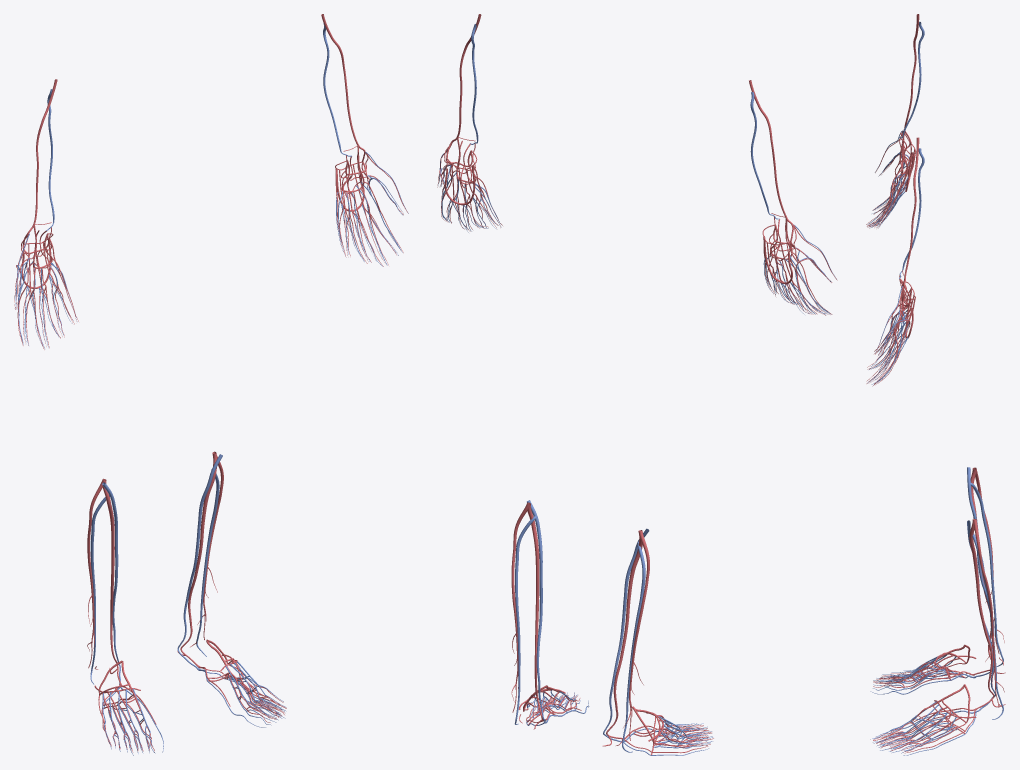
File: vaisseaux-extremites.glb
3 views of the same model, side by side, from view 1: azimuth 30°, elevation 25°; view 2: azimuth 150°, elevation 25°; view 3: azimuth 270°, elevation 25° (orthographic). The views are drawn at different scales.
Visible parts, largest first — view 1: Posterior tibial veins.l, Palmar digital veins.l, Posterior tibial artery.l, Proper palmar digital arteries.r, Posterior tibial artery.r, Proper palmar digital arteries.l, Palmar digital veins.r; view 2: Posterior tibial veins.l, Posterior tibial artery.l, Posterior tibial artery.r, Posterior tibial veins.r, Fibular artery.r, Fibular veins.l, Fibular artery.l; view 3: Posterior tibial artery.l, Fibular artery.l, Fibular veins.r, Proper palmar digital arteries.l, Palmar digital veins.l, Radial artery.l, Posterior tibial veins.r, Proper palmar digital arteries.r, Dorsal digital veins of hand.l, Radial artery.r, Palmar digital veins.r, Ulnar veins.l (+10 smaller).
Boxes of the visible parts, x1,y1,x2,y2 form: Posterior tibial veins.l: [177, 454, 222, 667]; Palmar digital veins.l: [338, 175, 402, 266]; Posterior tibial artery.l: [180, 452, 217, 664]; Proper palmar digital arteries.r: [15, 233, 78, 349]; Posterior tibial artery.r: [102, 479, 120, 682]; Proper palmar digital arteries.l: [339, 151, 408, 266]; Palmar digital veins.r: [17, 258, 76, 348]; Posterior tibial veins.l: [527, 500, 545, 723]; Posterior tibial artery.l: [527, 502, 545, 720]; Posterior tibial artery.r: [606, 530, 642, 739]; Posterior tibial veins.r: [603, 528, 649, 742]; Fibular artery.r: [623, 530, 649, 740]; Fibular veins.l: [514, 516, 536, 724]; Fibular artery.l: [511, 503, 530, 712]; Posterior tibial artery.l: [969, 519, 994, 708]; Fibular artery.l: [973, 519, 1004, 707]; Fibular veins.r: [970, 483, 1003, 666]; Proper palmar digital arteries.l: [866, 286, 903, 386]; Palmar digital veins.l: [868, 308, 906, 385]; Radial artery.l: [903, 137, 919, 299]; Posterior tibial veins.r: [967, 467, 994, 676]; Proper palmar digital arteries.r: [866, 131, 903, 227]; Dorsal digital veins of hand.l: [869, 286, 909, 383]; Radial artery.r: [903, 14, 919, 143]; Palmar digital veins.r: [867, 152, 906, 227]; Ulnar veins.l: [899, 148, 924, 278].
Size of the model in its own units: 0.6607 by 1.09 by 0.2147.
